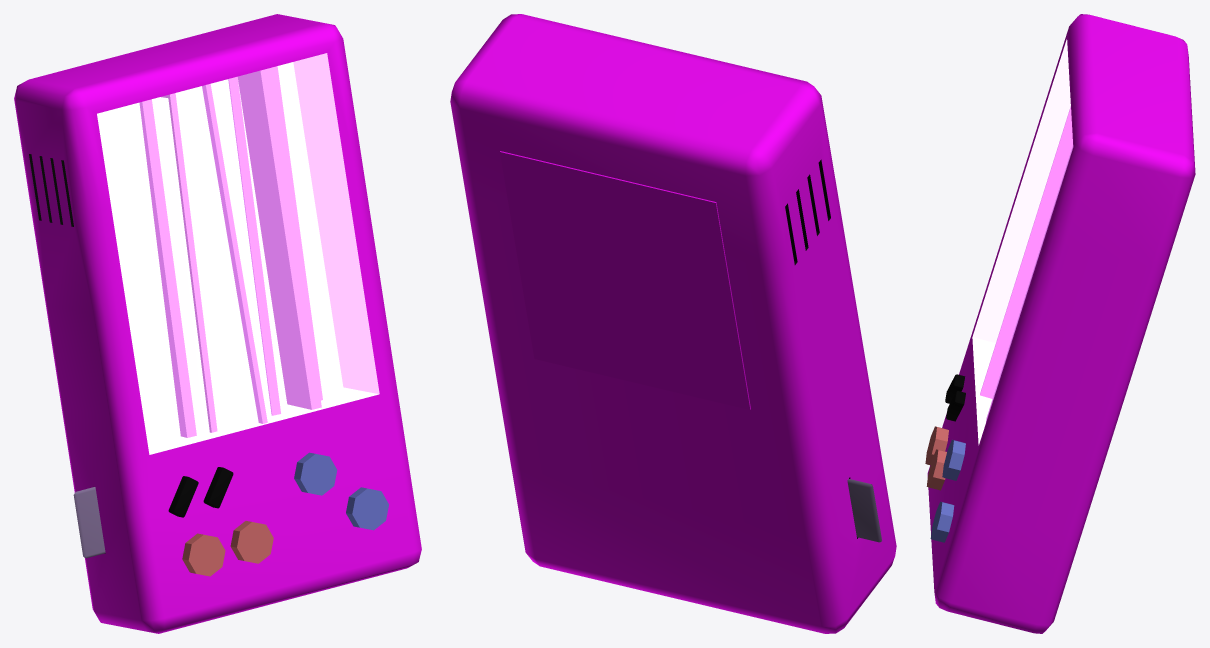
The model's file is console.glb.
3 views of the same model, side by side, from view 1: azimuth 30°, elevation 25°; view 2: azimuth 150°, elevation 25°; view 3: azimuth 270°, elevation 25° (orthographic). The views are drawn at different scales.
Parts seen in each view (by area): view 1: Cube_2_3_3, Cube_1_3, Cube_2_5, Cube_2_3_2, Cube_2_1_2, Cube_2_2_3, Cube_2_1, Cube_2_6_2, Cube_2_4_2, Cube_2_4, Cube_2_3, Cube_2_2_2 (+10 smaller); view 2: Cube_2_3_3, Cube_2_2, Cube_1; view 3: Cube_2_3_3, Cube_1_3, Cube_2_3, Cylinder_1, Cylinder, Cylinder_3, Cylinder_2, Cube_2_5, Cube_1_2.
Boxes of the visible parts, left/top/right/bottom form: Cube_2_3_3: left=14, top=14, right=421, bottom=633; Cube_1_3: left=97, top=53, right=379, bottom=454; Cube_2_5: left=237, top=68, right=321, bottom=409; Cube_2_3_2: left=179, top=86, right=258, bottom=424; Cube_2_1_2: left=114, top=102, right=180, bottom=441; Cube_2_2_3: left=152, top=92, right=209, bottom=433; Cube_2_1: left=139, top=99, right=196, bottom=437; Cube_2_6_2: left=277, top=62, right=335, bottom=398; Cube_2_4_2: left=210, top=79, right=271, bottom=416; Cube_2_4: left=228, top=76, right=280, bottom=415; Cube_2_3: left=202, top=84, right=267, bottom=423; Cube_2_2_2: left=161, top=93, right=217, bottom=432; Cube_2_3_3: left=450, top=14, right=896, bottom=633; Cube_2_2: left=500, top=151, right=750, bottom=409; Cube_1: left=847, top=479, right=881, bottom=542; Cube_2_3_3: left=927, top=14, right=1195, bottom=633; Cube_1_3: left=972, top=39, right=1070, bottom=445; Cube_2_3: left=980, top=106, right=1072, bottom=398; Cylinder_1: left=942, top=439, right=965, bottom=480; Cylinder: left=930, top=501, right=954, bottom=542; Cylinder_3: left=926, top=449, right=946, bottom=490; Cylinder_2: left=925, top=426, right=948, bottom=465; Cube_2_5: left=986, top=145, right=1073, bottom=422; Cube_1_2: left=946, top=391, right=965, bottom=421.
Size of what is drawn, in the model's own units: 0.5079 by 0.8139 by 0.3992.
